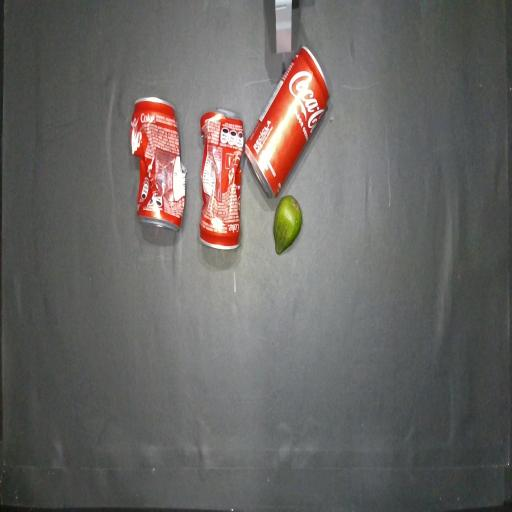higo: (273, 196, 302, 254)
lata: (246, 47, 329, 196)
lata_defectuoso: (130, 98, 186, 230), (200, 109, 245, 249)
